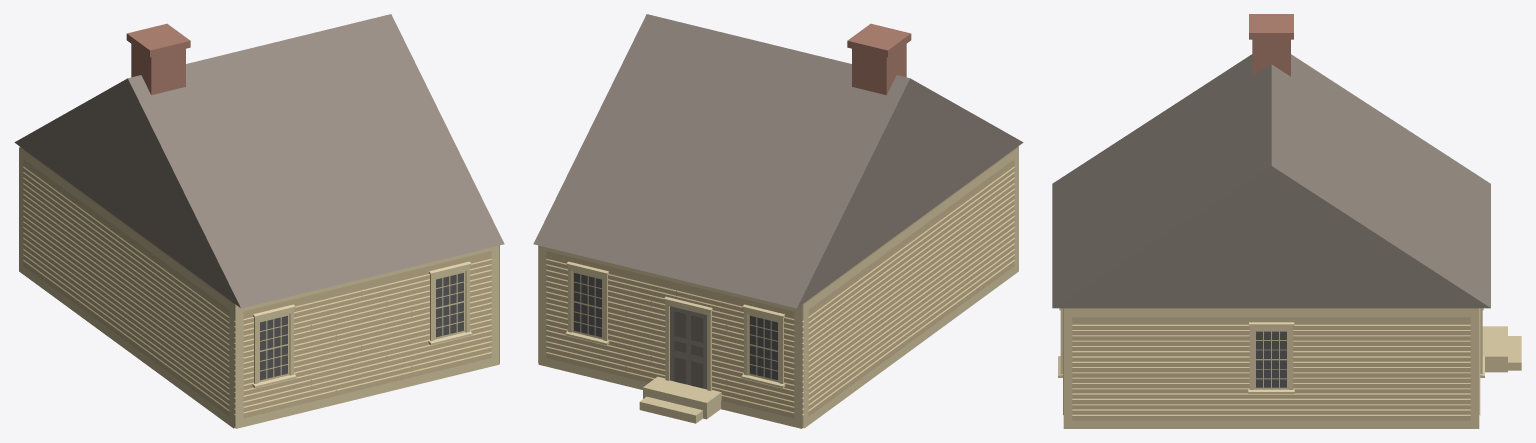
File: recon_1835_blk_randolph_dearborn_d5_02__inferred_1835.glb
3 views of the same model, side by side, from view 1: azimuth 30°, elevation 25°; view 2: azimuth 150°, elevation 25°; view 3: azimuth 270°, elevation 25° (orthographic). The views are drawn at different scales.
Parts seen in each view (by area): view 1: recon_1835_blk_randolph_dearborn_d5_02__inferred_1835; view 2: recon_1835_blk_randolph_dearborn_d5_02__inferred_1835; view 3: recon_1835_blk_randolph_dearborn_d5_02__inferred_1835.
Part boxes in pixels (x1=…): recon_1835_blk_randolph_dearborn_d5_02__inferred_1835: x1=14, y1=14, x2=504, y2=428; recon_1835_blk_randolph_dearborn_d5_02__inferred_1835: x1=533, y1=14, x2=1023, y2=428; recon_1835_blk_randolph_dearborn_d5_02__inferred_1835: x1=1052, y1=14, x2=1521, y2=428.
Bounding box in the file's own units: 6.54 × 7.07 × 10.2.
